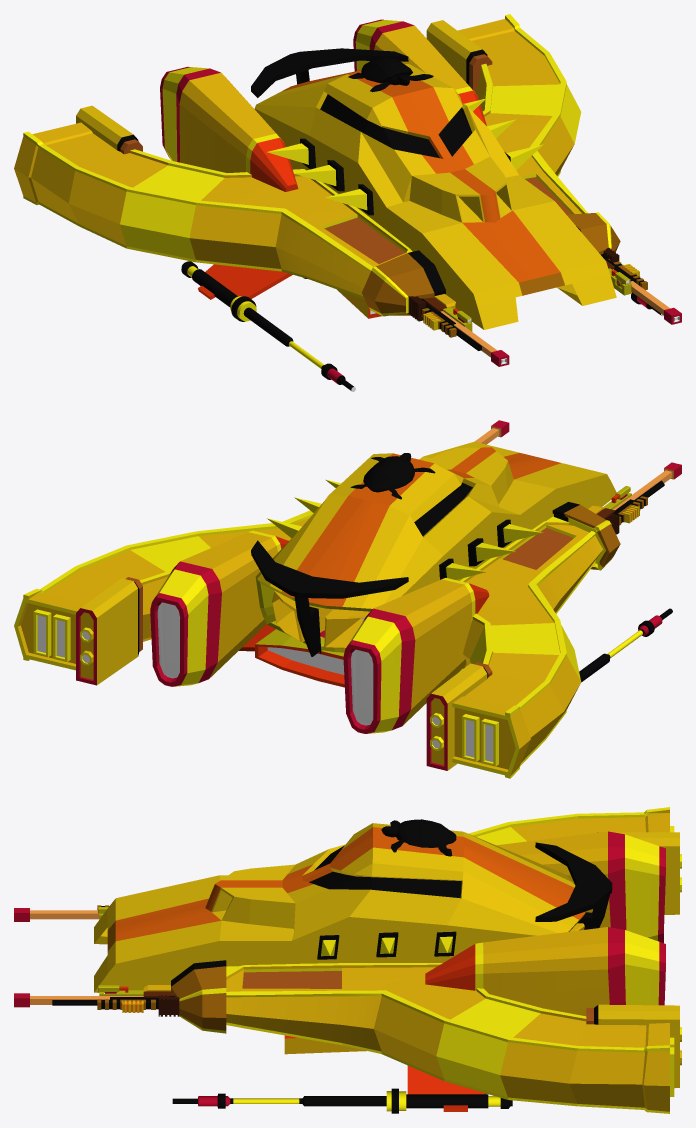
Rendered from Peyote.fbx.
3 views of the same model, one above another, from view 1: azimuth 30°, elevation 25°; view 2: azimuth 150°, elevation 25°; view 3: azimuth 270°, elevation 25° (orthographic).
Parts seen in each view (by area): view 1: pasted__Plane.002; view 2: pasted__Plane.002; view 3: pasted__Plane.002.
Boxes of the visible parts, x1=… form: pasted__Plane.002: x1=14, y1=14, x2=681, y2=391; pasted__Plane.002: x1=14, y1=420, x2=681, y2=778; pasted__Plane.002: x1=14, y1=807, x2=681, y2=1113.
Size of the model in its own units: 80.47 by 32.37 by 90.87.
